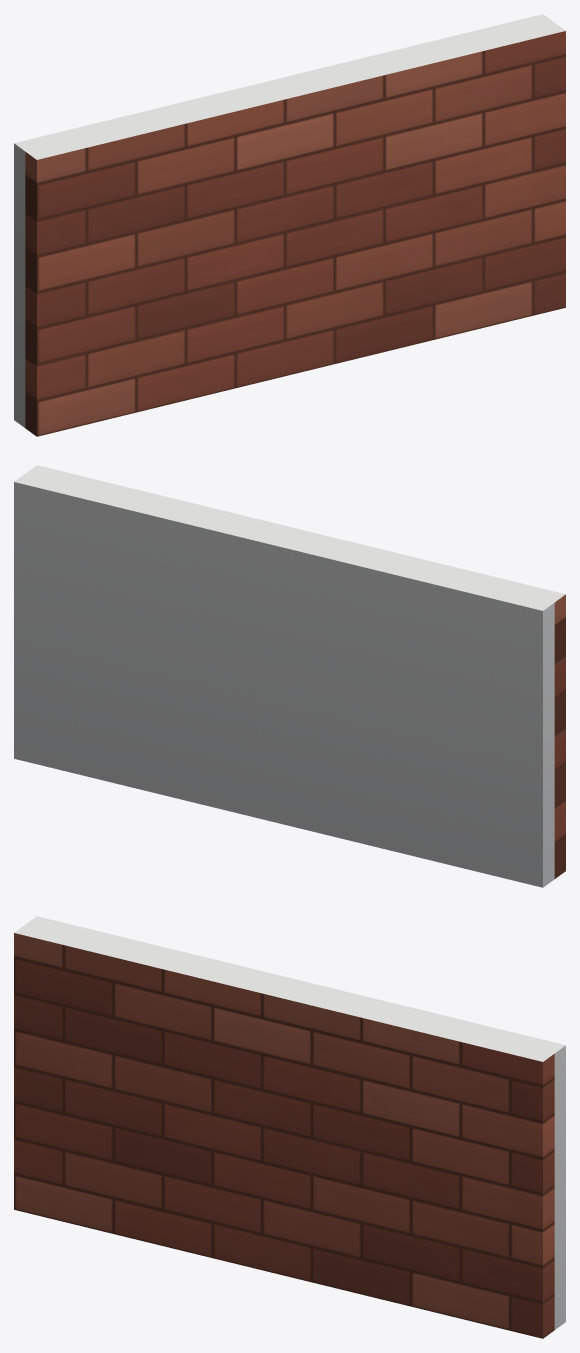
The model's file is mureta_2m.glb.
3 renders of one model, top to bottom at view 1: azimuth 30°, elevation 25°; view 2: azimuth 150°, elevation 25°; view 3: azimuth 330°, elevation 25°, orthographic.
Visible parts, largest first — view 1: mureta_2m; view 2: mureta_2m; view 3: mureta_2m.
Boxes of the visible parts, x1,y1,x2,y2 form: mureta_2m: (14, 14, 565, 436); mureta_2m: (14, 465, 565, 887); mureta_2m: (14, 916, 565, 1338).
Size of the model in its own units: 2 by 1 by 0.15.
Materials: 3 (2 with a texture image).
